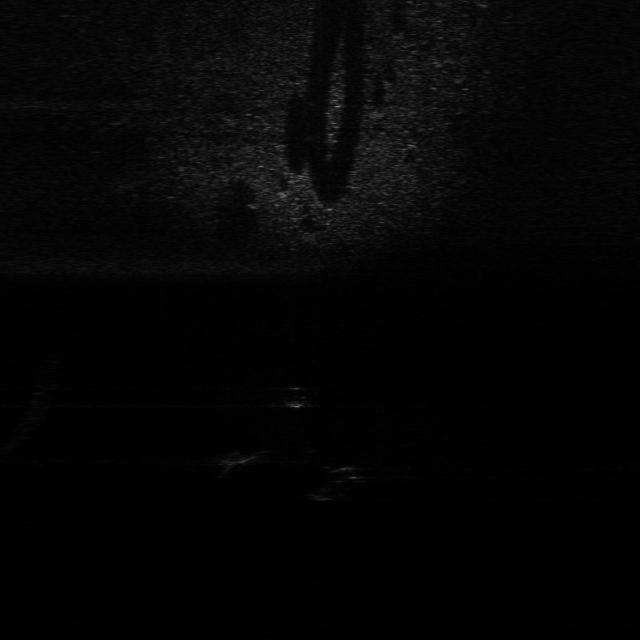ball: (281, 379, 317, 412)
square cage: (213, 448, 268, 477)
tyre: (298, 456, 372, 506)
